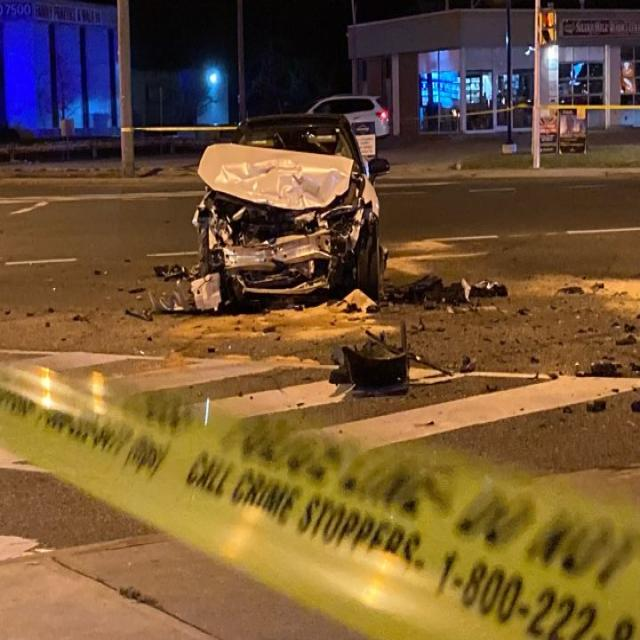Accident: (162, 118, 396, 322)
